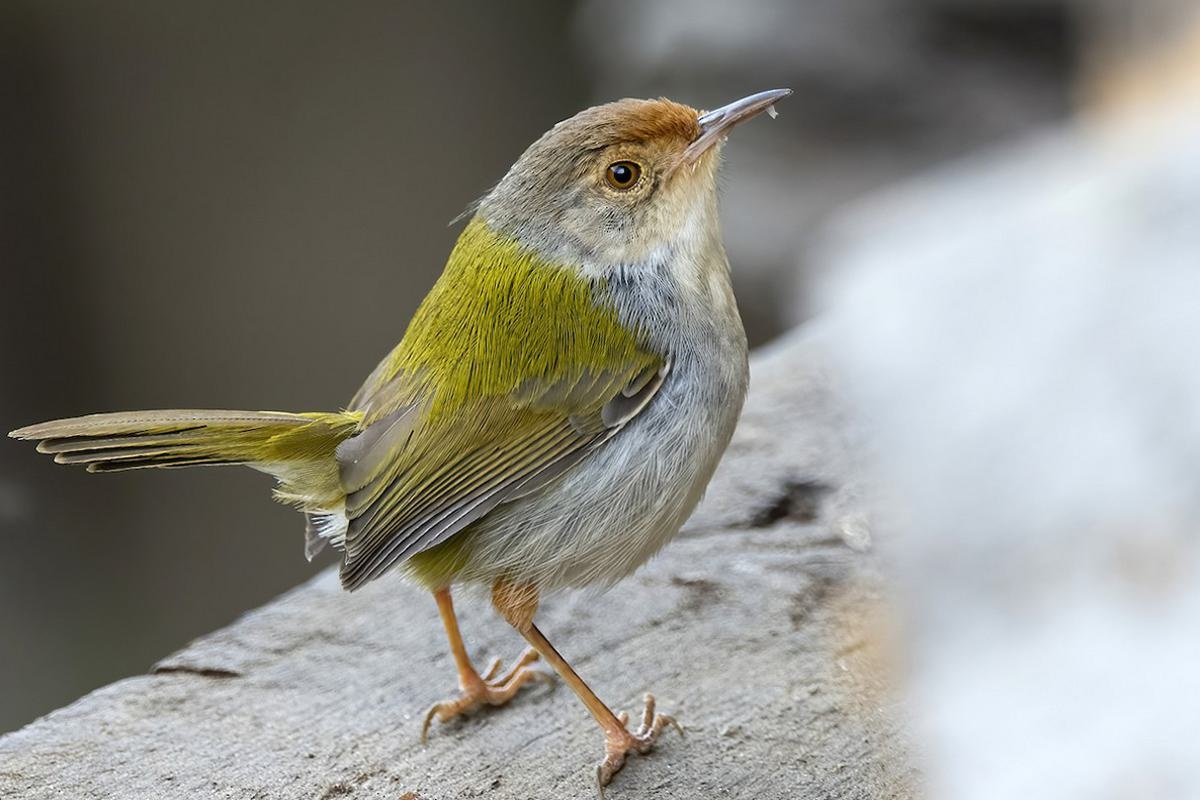tailorbird: (1, 73, 825, 741)
